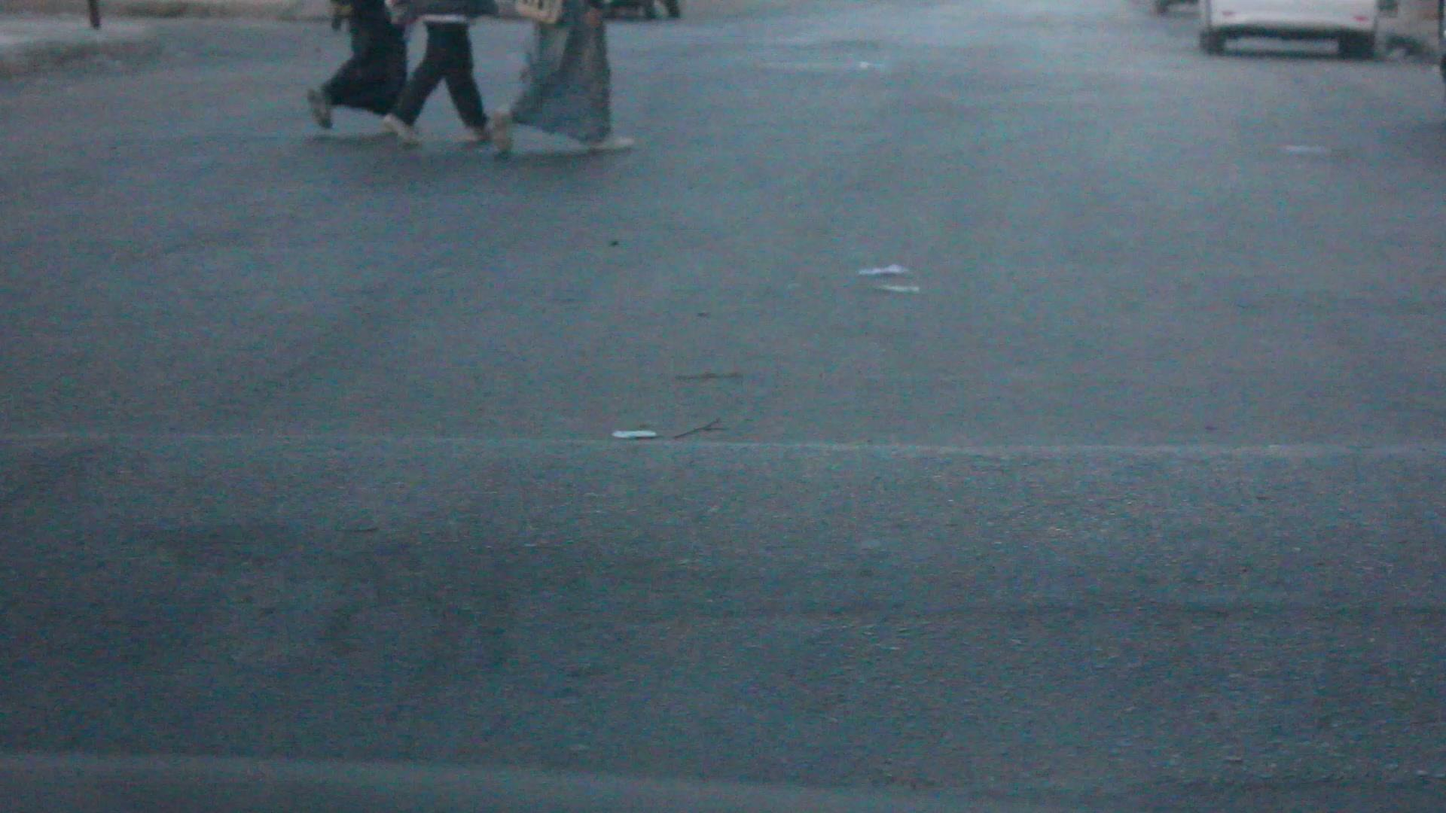Bump: (0, 420, 1446, 768)
